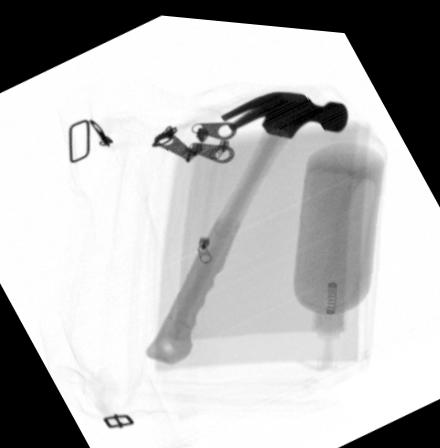Hammer: (144, 82, 348, 362)
